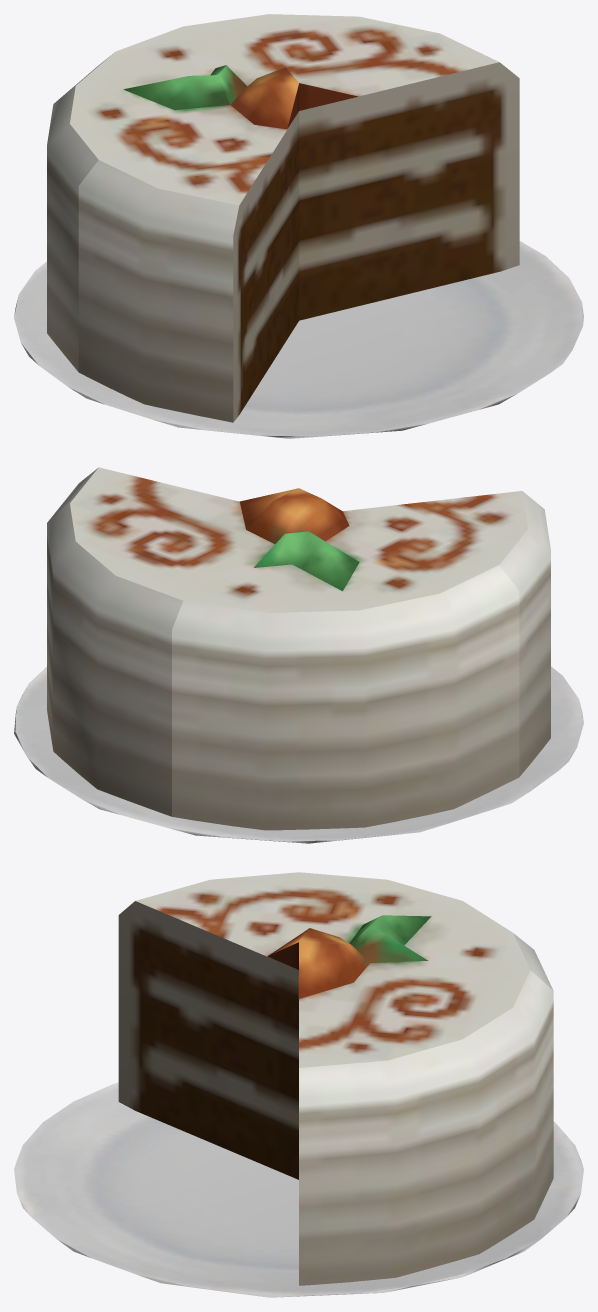
Rendered from pastelZanahoria.fbx.
3 renders of one model, top to bottom at view 1: azimuth 30°, elevation 25°; view 2: azimuth 150°, elevation 25°; view 3: azimuth 270°, elevation 25°, orthographic.
Visible parts, largest first — view 1: s4studio_mesh_1, s4studio_mesh_2; view 2: s4studio_mesh_1, s4studio_mesh_2; view 3: s4studio_mesh_1, s4studio_mesh_2.
Part boxes in pixels (x1,y1,x2,y2): s4studio_mesh_1: [47, 14, 519, 422]; s4studio_mesh_2: [14, 241, 583, 438]; s4studio_mesh_1: [47, 467, 550, 830]; s4studio_mesh_2: [14, 666, 583, 843]; s4studio_mesh_1: [118, 872, 553, 1285]; s4studio_mesh_2: [14, 1082, 583, 1297].
Size of the model in its own units: 24.57 by 12.79 by 24.61.
2 materials, 2 textured.
